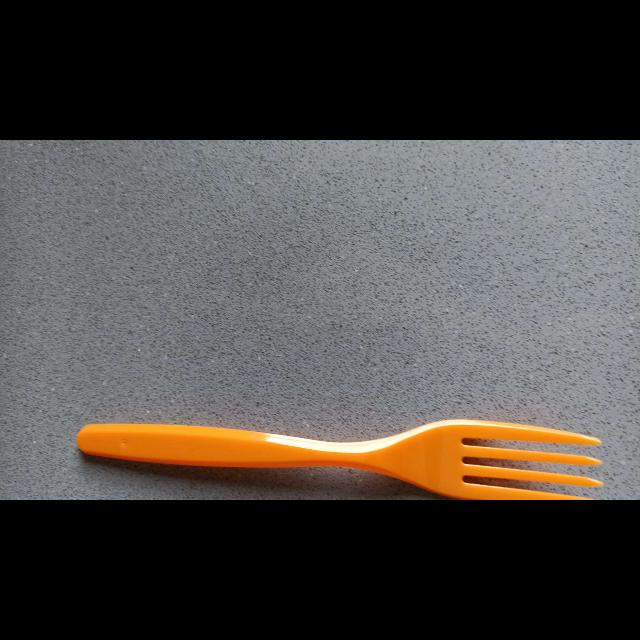plastic_cultery: (70, 412, 606, 501)
